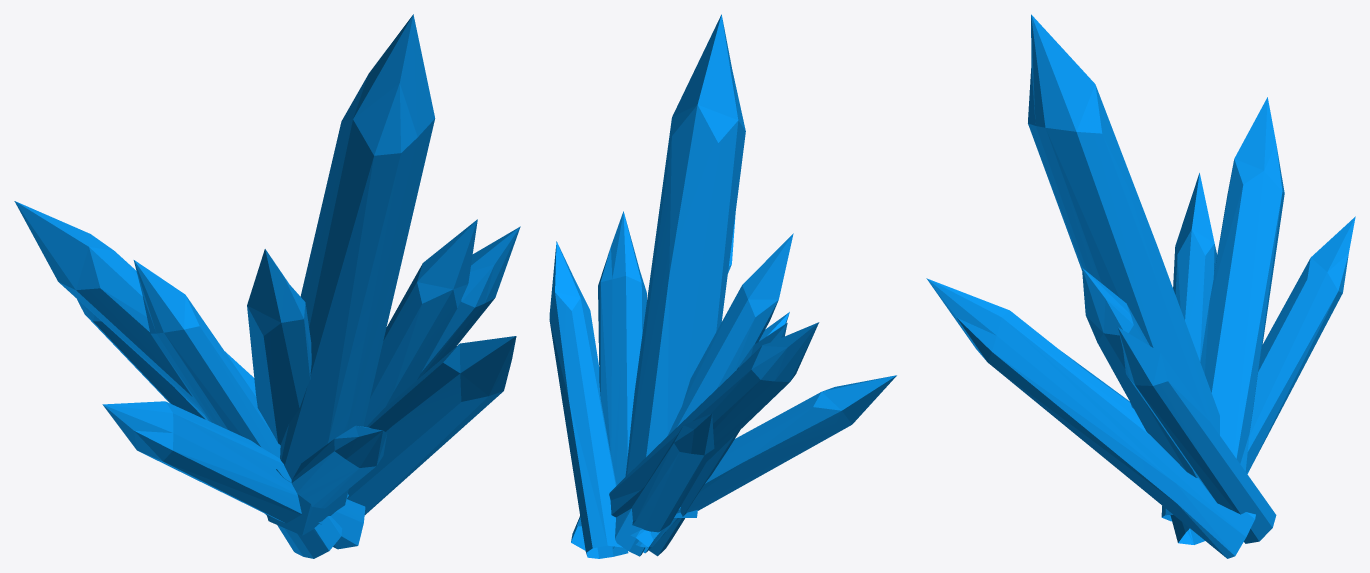
File: crystal.fbx
The picture shows the model from 3 angles, left to right: view 1: azimuth 30°, elevation 25°; view 2: azimuth 150°, elevation 25°; view 3: azimuth 270°, elevation 25°; orthographic projection. The views are drawn at different scales.
Visible parts, largest first — view 1: Crystal; view 2: Crystal; view 3: Crystal.
Part boxes in pixels (x1,y1,x2,y2): Crystal: (14,14,520,558); Crystal: (549,14,896,558); Crystal: (926,14,1355,558).
Size of the model in its own units: 863 by 1184 by 881.
